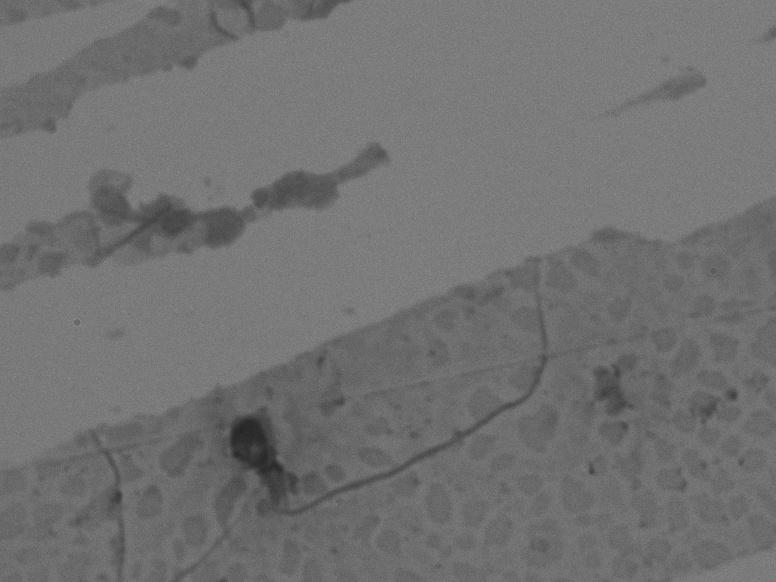Abnormal: (212, 274, 580, 539)
